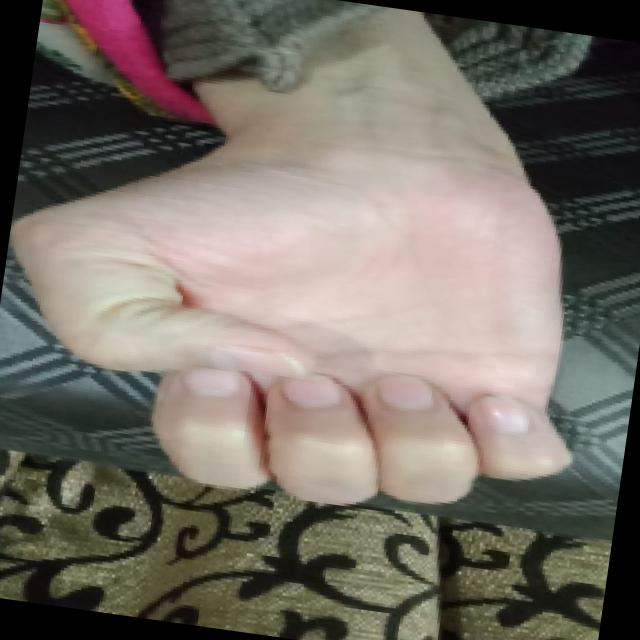Nail: (209, 346, 306, 376), (282, 374, 341, 408), (377, 375, 434, 410), (481, 395, 530, 435), (185, 367, 240, 396)
